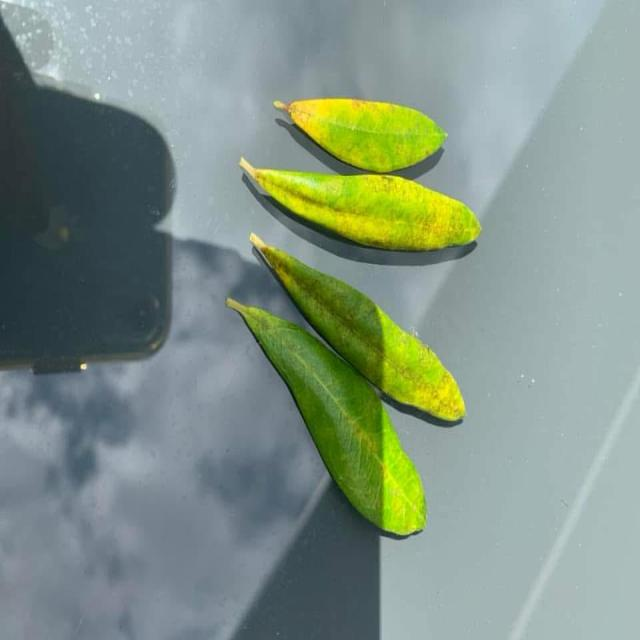Peacock Eye: (250, 234, 465, 422), (239, 158, 480, 251), (273, 97, 447, 172)
